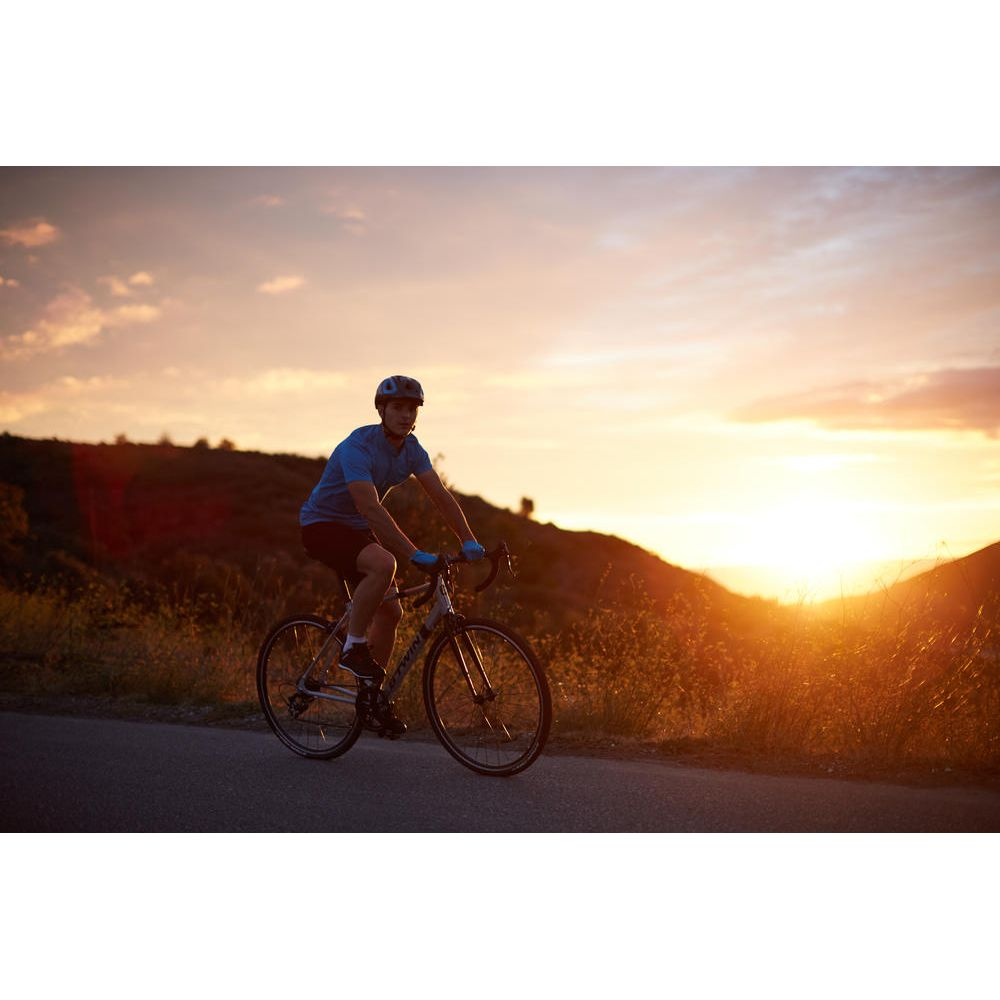RoadBike: (388, 536, 803, 815)
